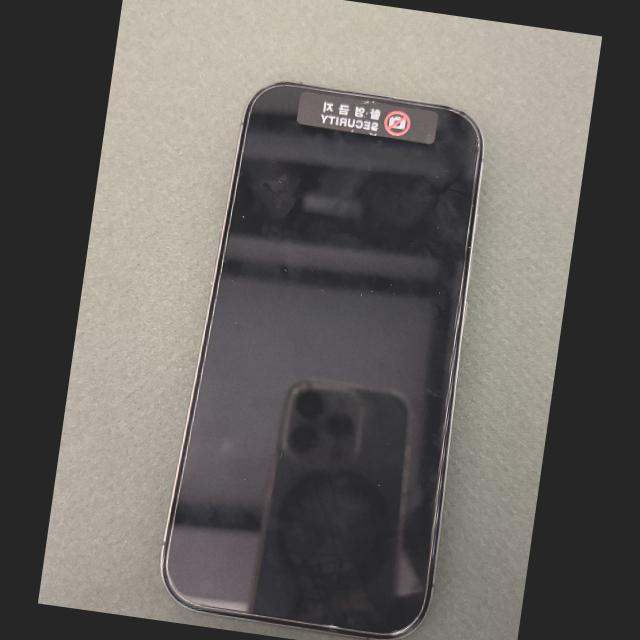phone: (161, 84, 483, 640)
sticker: (297, 91, 437, 144)
